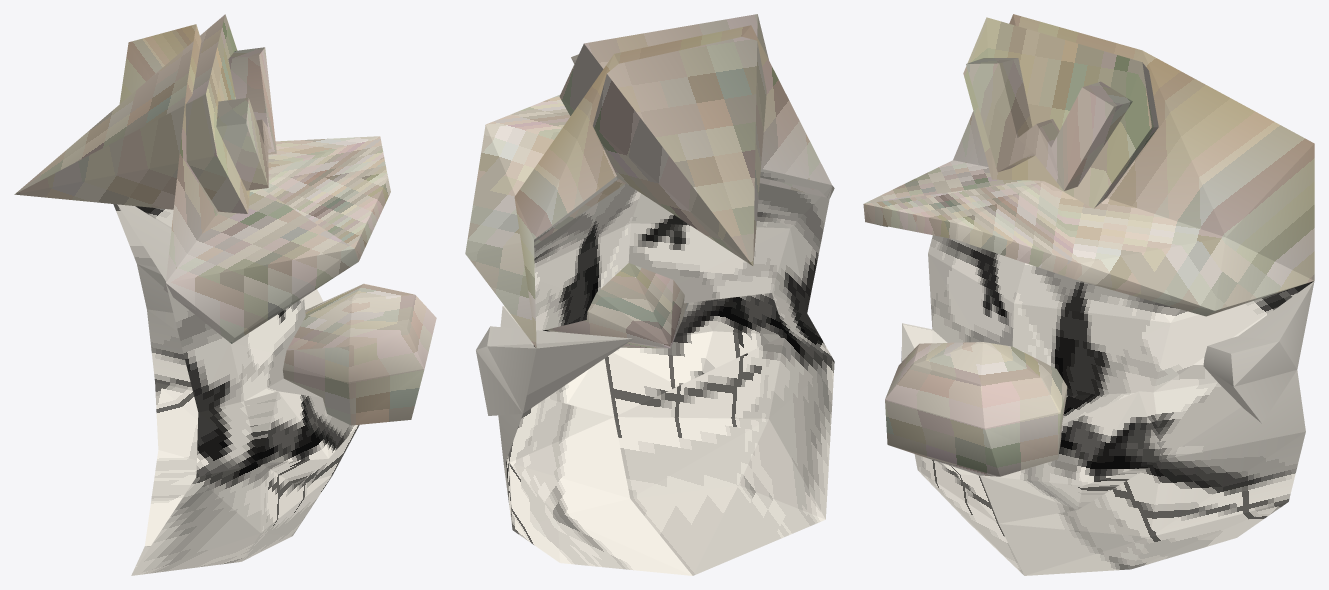
The model's file is uvmd-0092.glb.
3 renders of one model, left to right at view 1: azimuth 30°, elevation 25°; view 2: azimuth 150°, elevation 25°; view 3: azimuth 270°, elevation 25°, orthographic. The views are drawn at different scales.
Visible parts, largest first — view 1: uvmd-0092; view 2: uvmd-0092; view 3: uvmd-0092.
Boxes of the visible parts, x1,y1,x2,y2 form: uvmd-0092: (14, 14, 436, 575); uvmd-0092: (465, 14, 834, 575); uvmd-0092: (863, 14, 1314, 575).
Size of the model in its own units: 456 by 674 by 524.
Materials: 3 (3 with a texture image).
